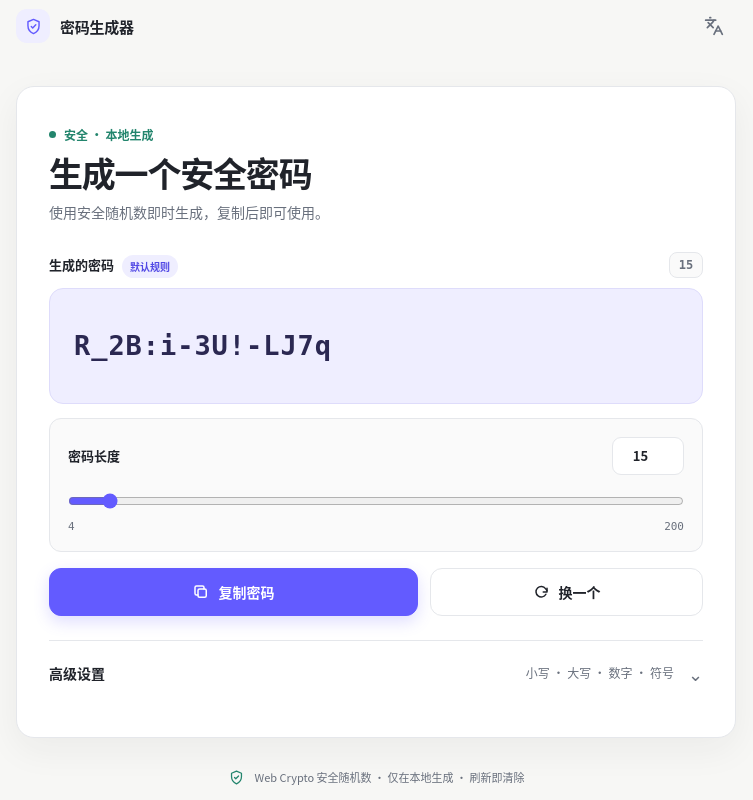
Test: App › generates a symbol-enabled default password and copies it
This screenshot has width=753, height=800.
Click the button "复制密码" at (233, 592), box x1=49 y1=568 x2=418 y2=616
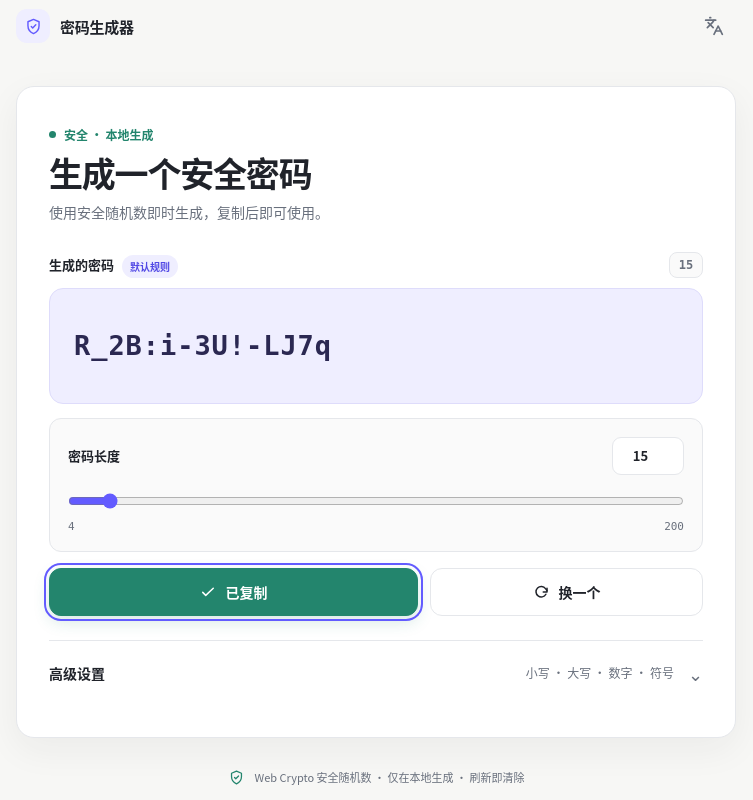
expect the button "已复制" is shown: met, box x1=49 y1=568 x2=418 y2=616
